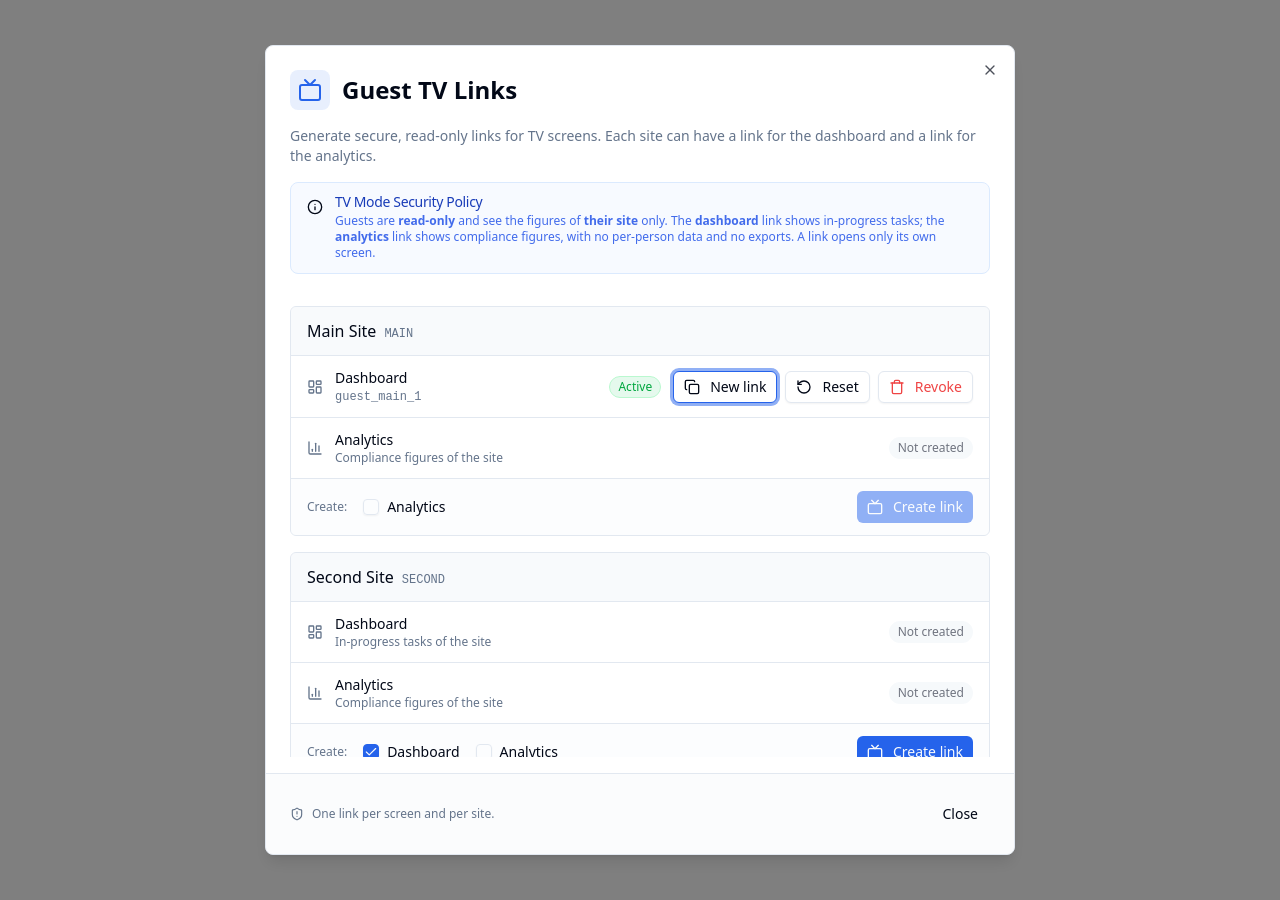
GuestLinkDialog › creating links › cannot create anything when no screen is chosen
What coordinates should you click on to do the following:
click the checkbox named "Dashboard link for Second Site"
I would click on:
 (371, 752)
Its box is [363,744,379,760].
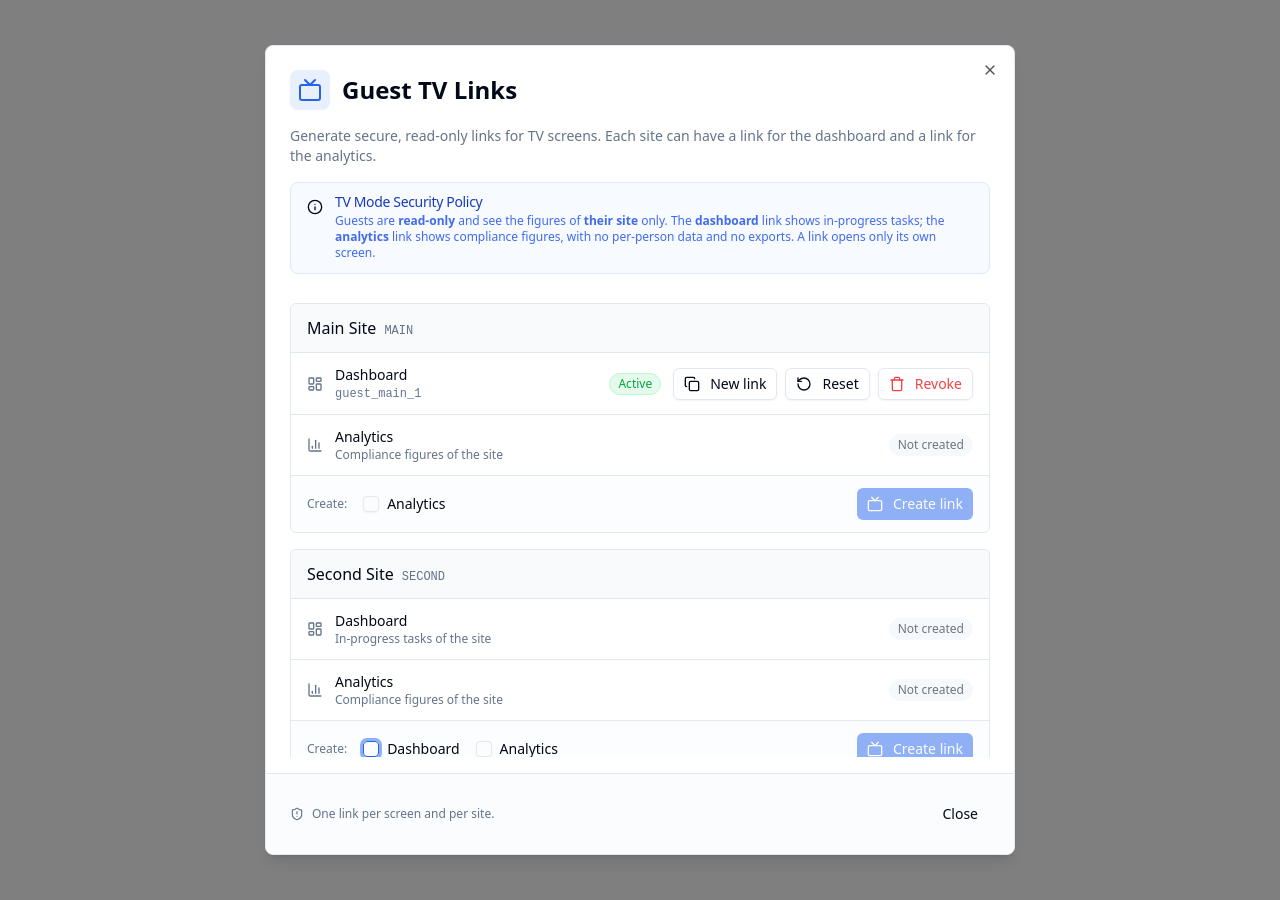
Now the 2nd button "Create link" is disabled, box [857,733,973,757]
